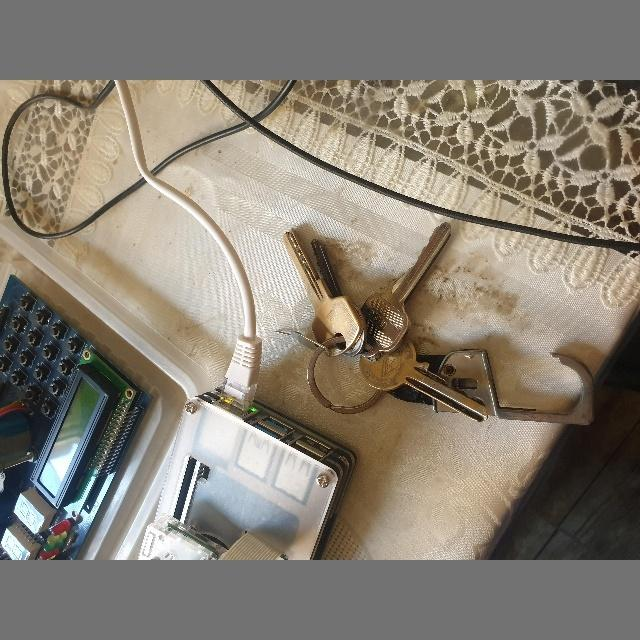Keys: (280, 222, 594, 423)
